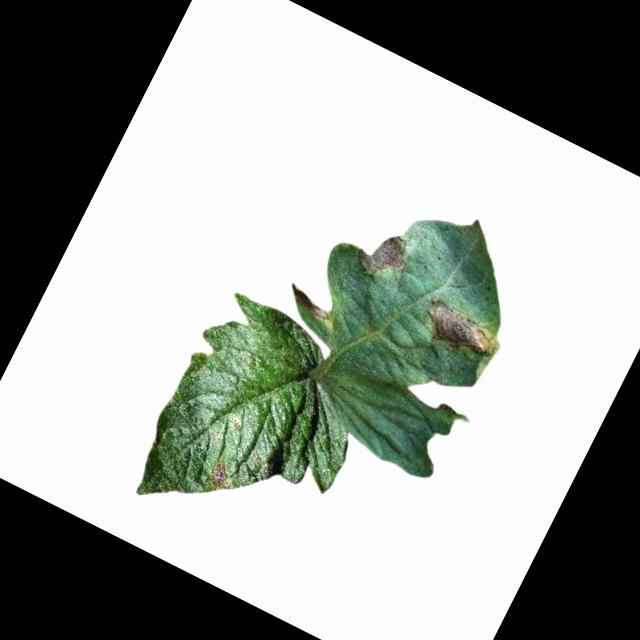Early_blight: (412, 292, 507, 372), (348, 221, 417, 292), (282, 282, 335, 324), (203, 456, 241, 496)
